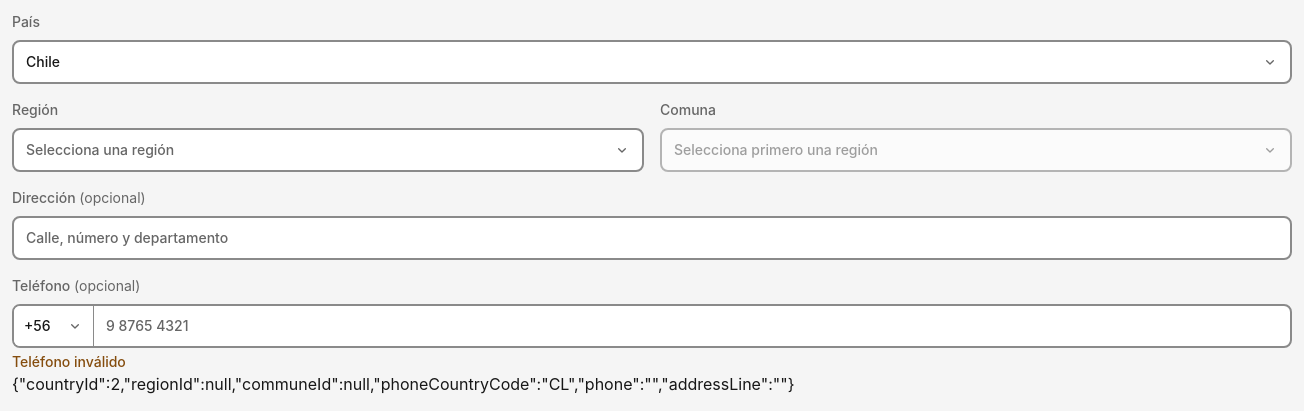
Test case: UserContactFields › formats input and displays field-specific errors
Type "987654321" into the field labelled "Teléfono (opcional)" at (692, 326), box [94, 306, 1290, 346]
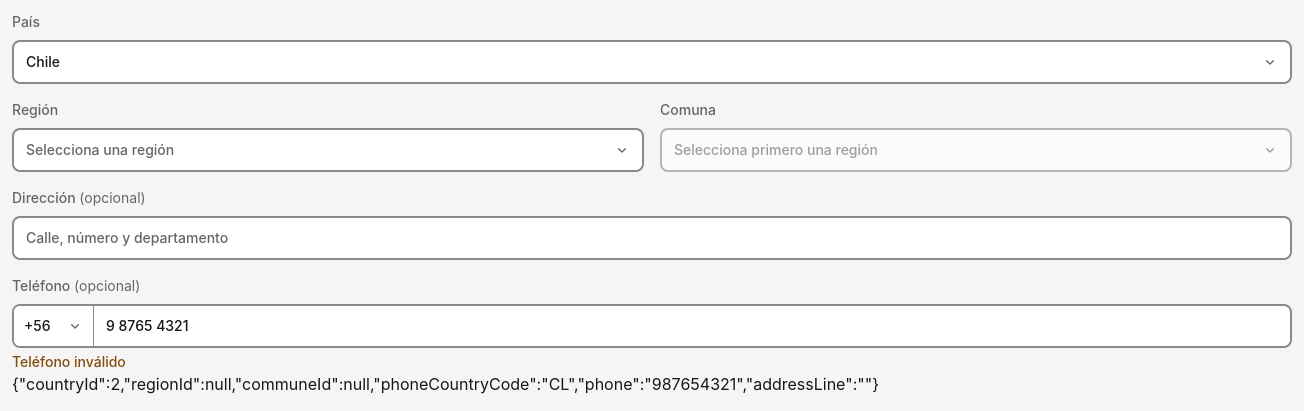
Check: the text "Teléfono inválido" is shown, box [12, 353, 126, 370]
Check: the field labelled "Teléfono (opcional)" holds "9 8765 4321", box [94, 306, 1290, 346]
